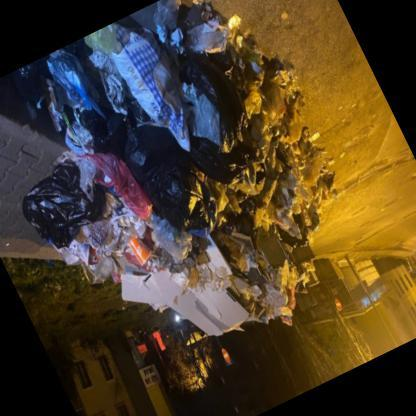Garbage: (44, 10, 250, 252), (6, 121, 209, 341), (177, 34, 316, 224), (199, 66, 345, 244), (186, 198, 298, 340), (272, 256, 316, 292)
